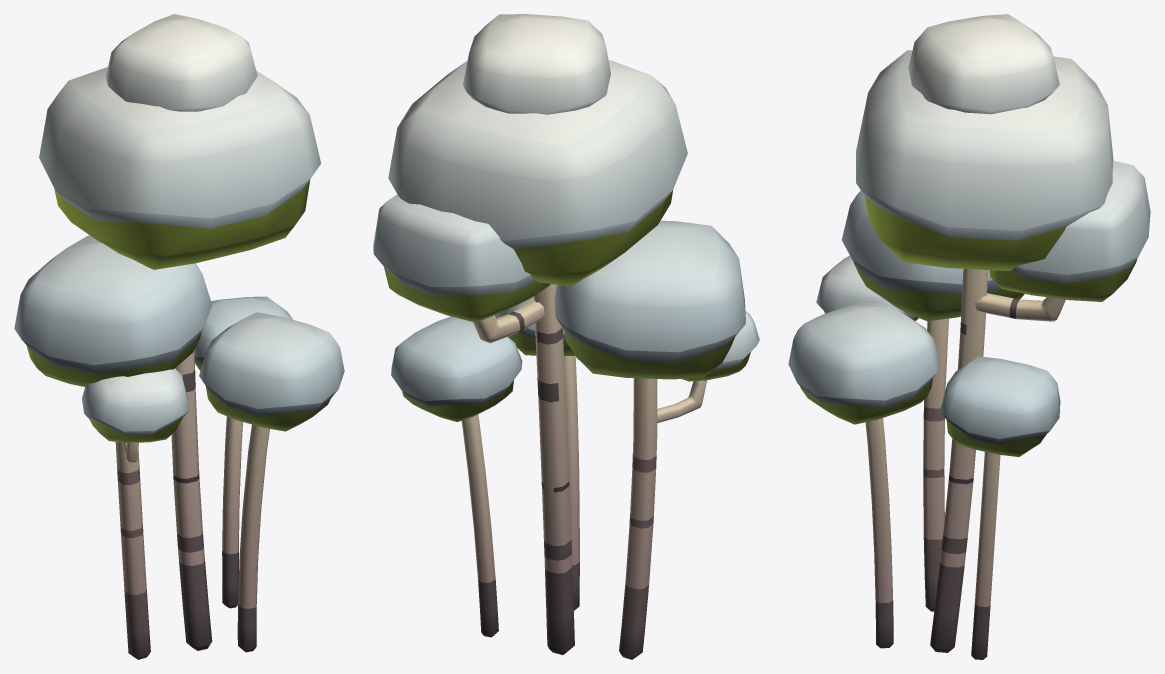
The model's file is birch_tree_col1_07_snow.fbx.
3 renders of one model, left to right at view 1: azimuth 30°, elevation 25°; view 2: azimuth 150°, elevation 25°; view 3: azimuth 270°, elevation 25°, orthographic. The views are drawn at different scales.
Visible parts, largest first — view 1: birch_tree_SC_col1_07_snow; view 2: birch_tree_SC_col1_07_snow; view 3: birch_tree_SC_col1_07_snow.
Boxes of the visible parts, left/top/right/bottom form: birch_tree_SC_col1_07_snow: left=14, top=14, right=344, bottom=659; birch_tree_SC_col1_07_snow: left=373, top=14, right=759, bottom=659; birch_tree_SC_col1_07_snow: left=788, top=14, right=1150, bottom=659.
Size of the model in its own units: 345 by 678 by 358.
